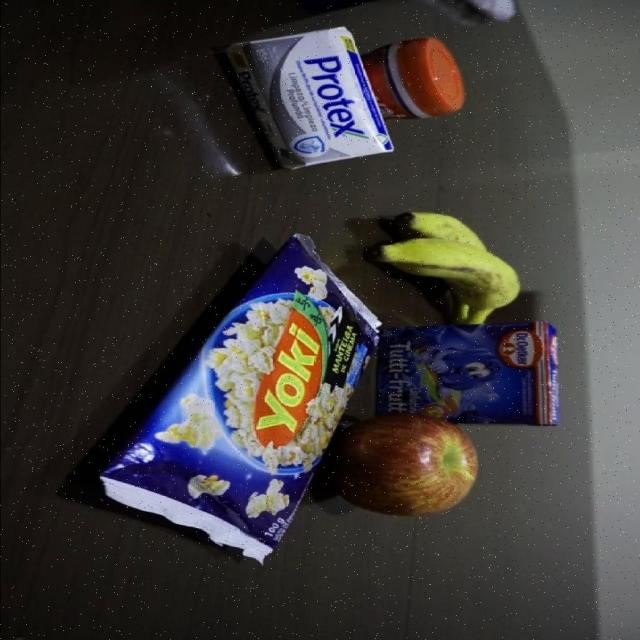Apple: (321, 412, 478, 518)
Banana: (362, 211, 524, 324)
Gelatine: (370, 318, 562, 428)
Popcorn: (95, 232, 383, 566)
Soap: (223, 25, 396, 172)
Yeast: (354, 35, 467, 128)
